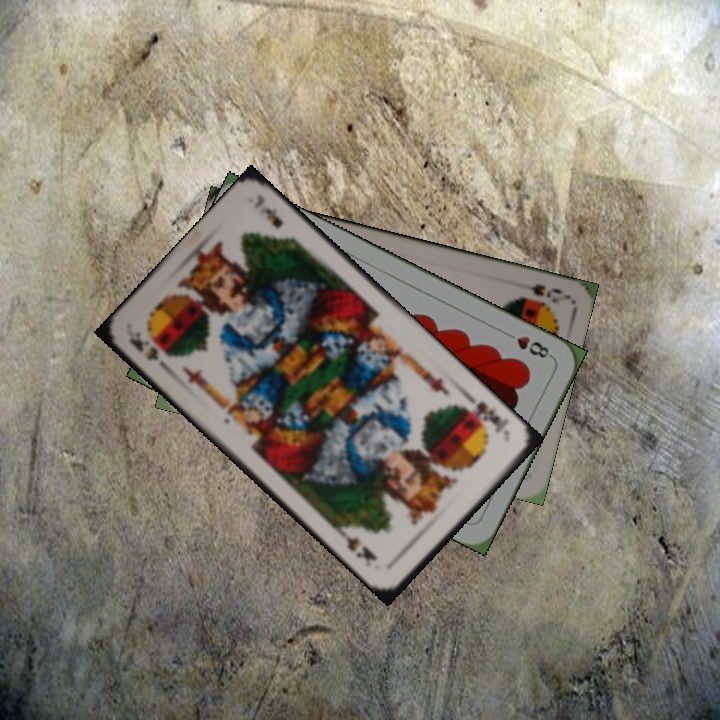H8: (500, 327, 555, 361)
SK: (458, 396, 513, 441), (125, 327, 161, 364)
SO: (526, 280, 567, 306)
